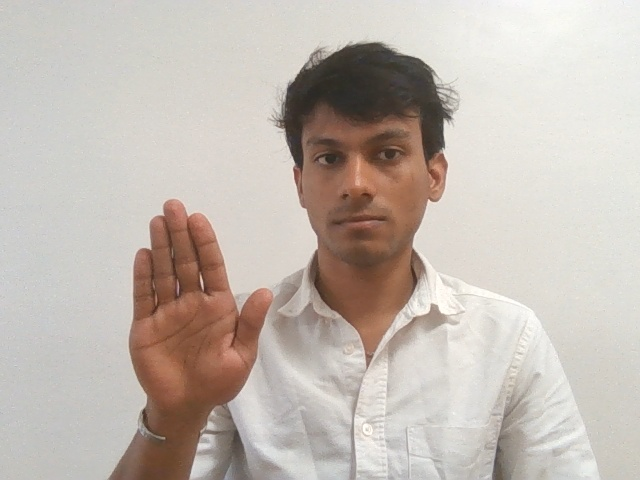Hello: (101, 195, 271, 442)
